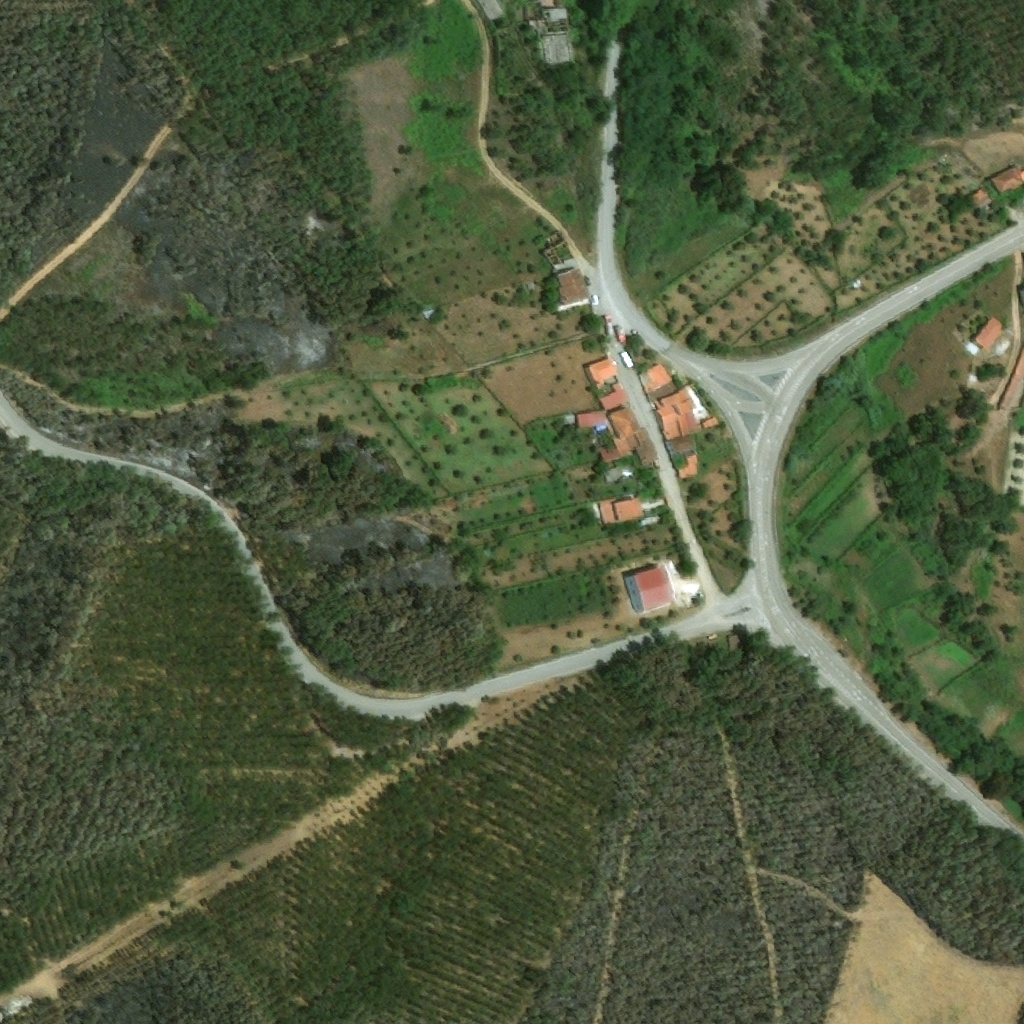0 no-damage: (652, 387, 715, 443), (529, 0, 576, 67), (552, 258, 593, 312), (997, 344, 1023, 408), (597, 495, 645, 527), (636, 360, 676, 397), (607, 406, 642, 441), (988, 161, 1023, 195), (973, 316, 1006, 350), (633, 430, 661, 468), (474, 0, 510, 26), (583, 357, 617, 384), (599, 383, 628, 411), (678, 453, 699, 479), (575, 412, 606, 429), (598, 443, 621, 464), (422, 309, 439, 322), (563, 416, 575, 427)
